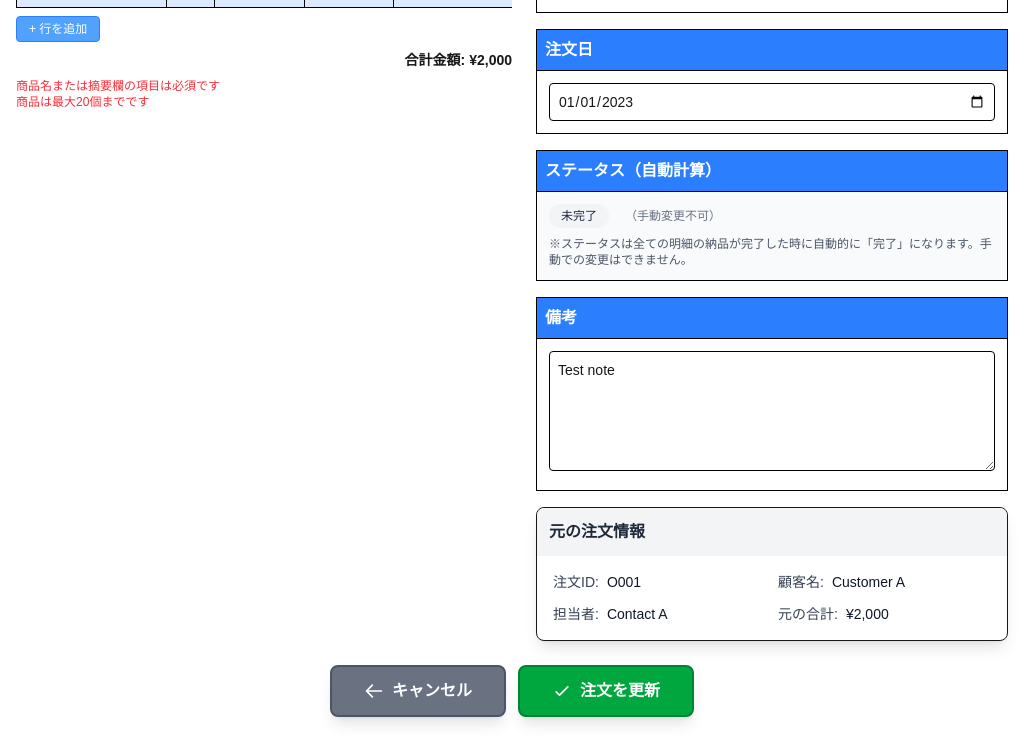
Test: OrderEditPage › エラーモーダルの閉じる処理を確認する
(page scrolled)
Expected: the text "注文を更新" is shown, [552,679,660,703]
Click the button "注文を更新" at x=606, y=691, box [518,665,694,717]
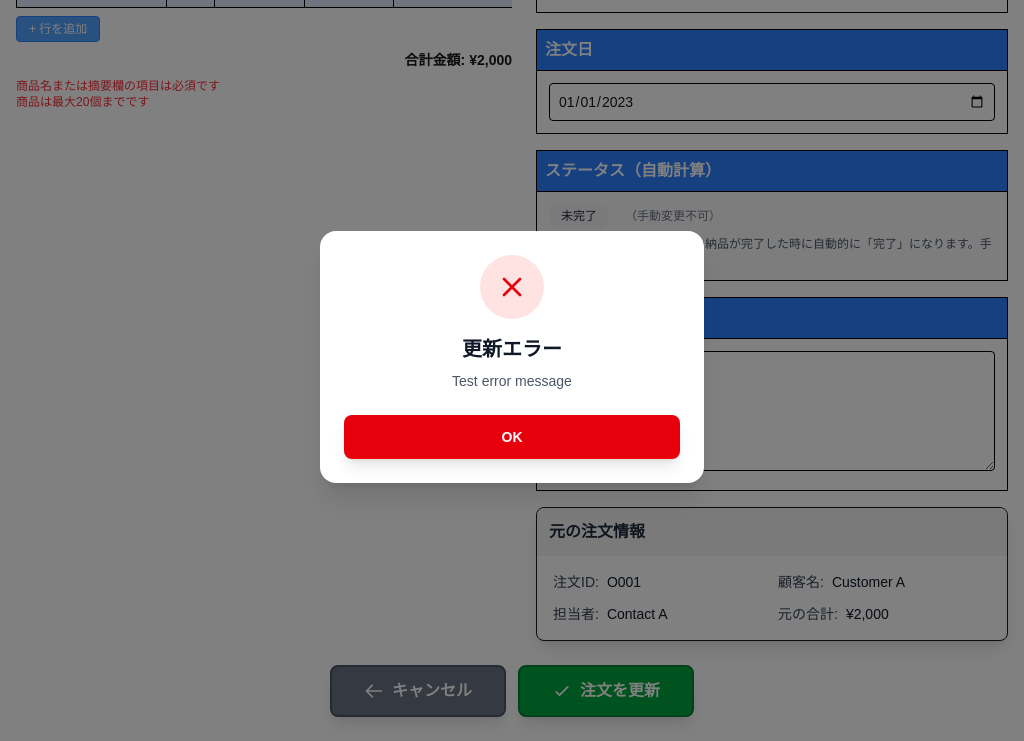
Now the heading "更新エラー" is shown, box [462,338,562,360]
Note: Close error modal
Click the button "OK" at x=512, y=437, box [344,415,680,459]
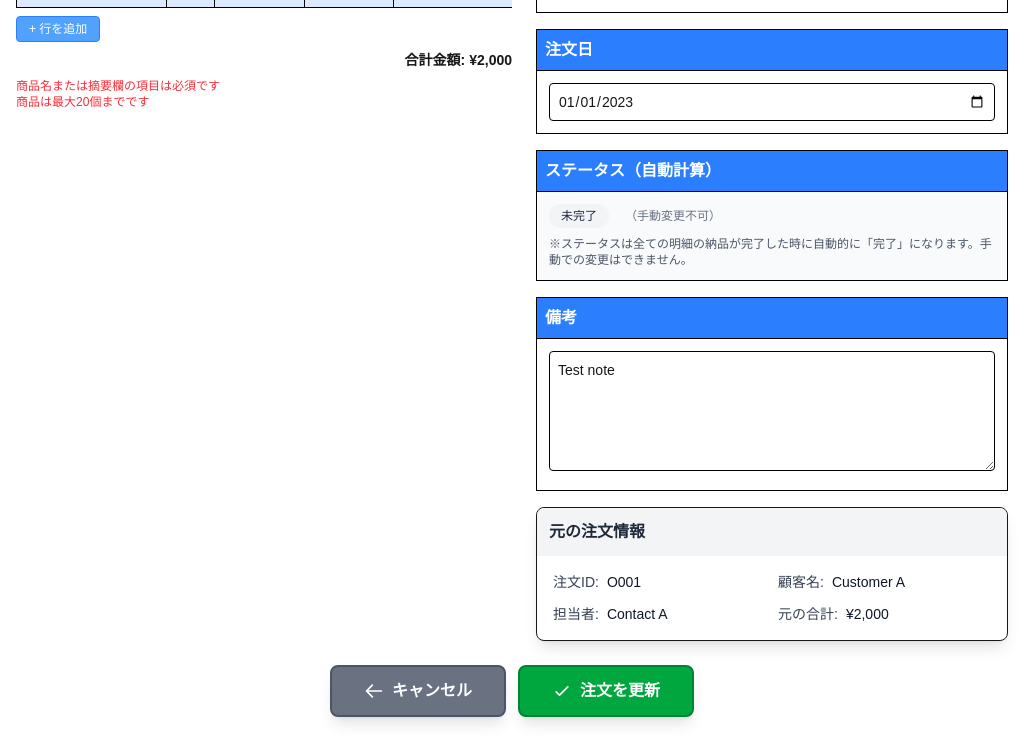
Now the heading "更新エラー" is gone
